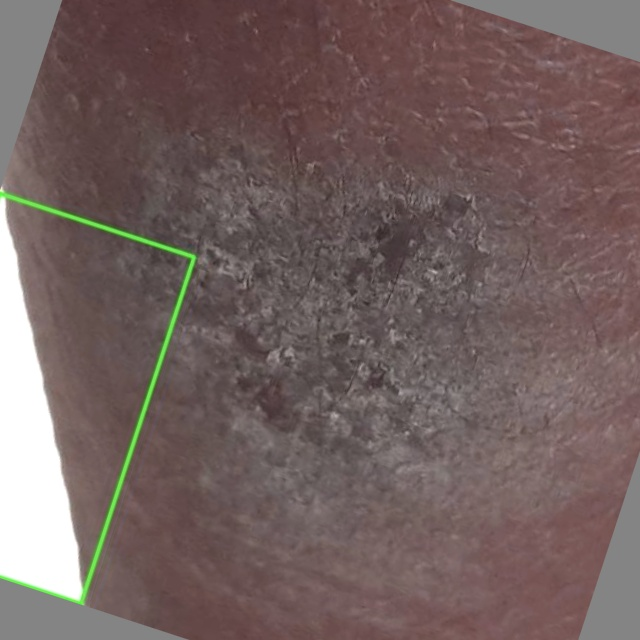Contact Dermatitis: (0, 193, 194, 603)
